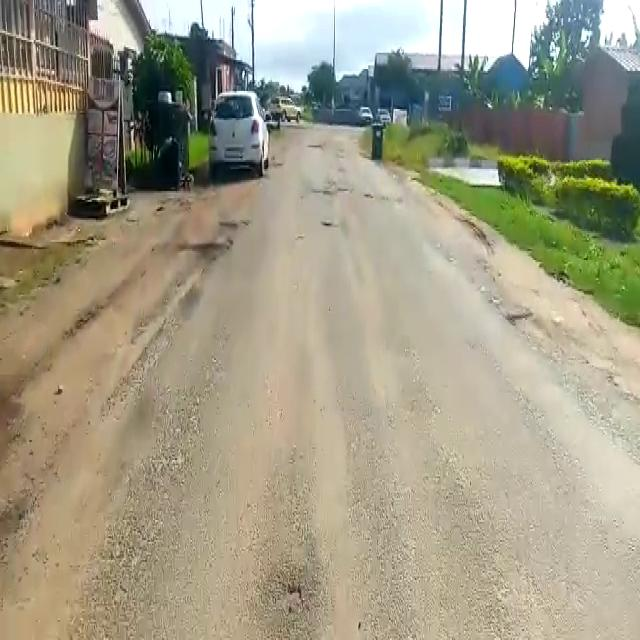Pothole: (509, 312, 548, 336)
